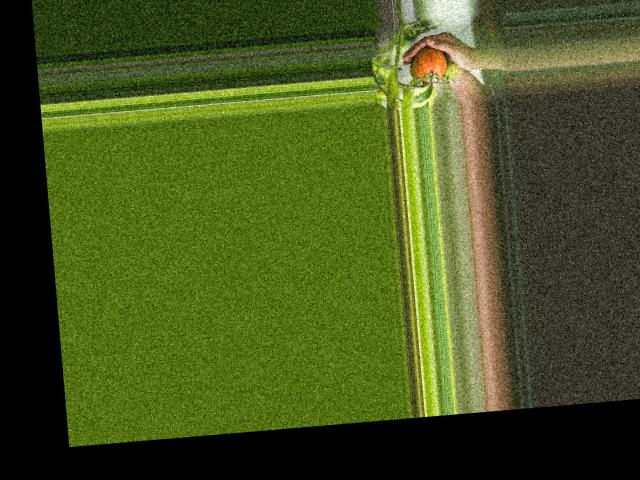tomato: (413, 46, 448, 82)
